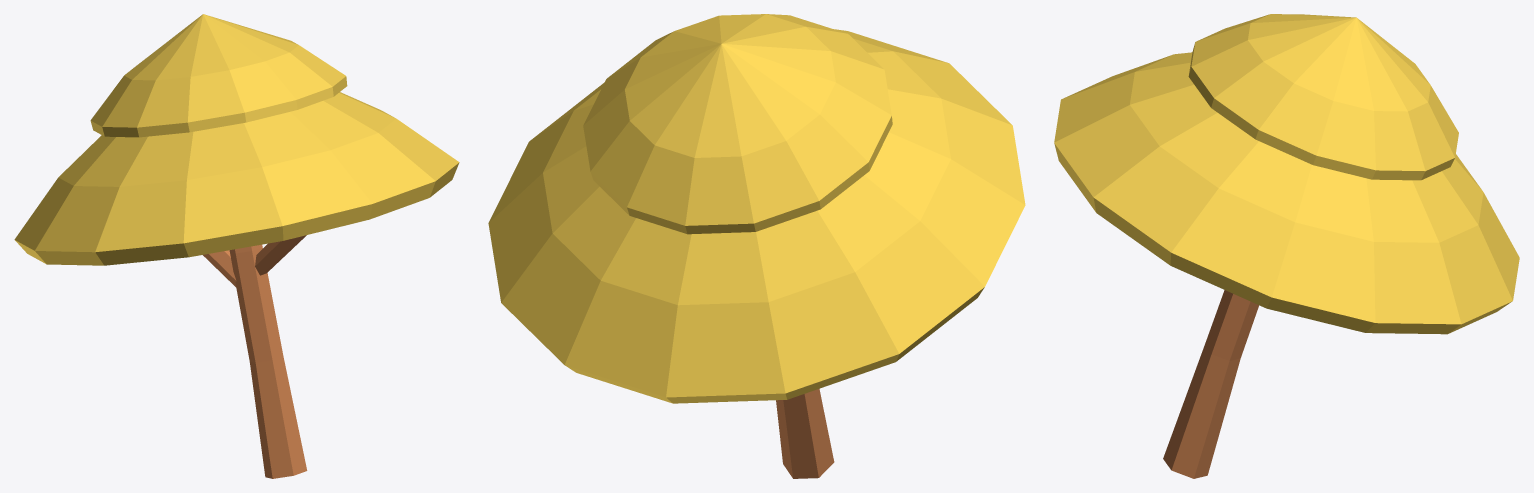
The model's file is beach_umbrella_yellow.fbx.
3 views of the same model, side by side, from view 1: azimuth 30°, elevation 25°; view 2: azimuth 150°, elevation 25°; view 3: azimuth 270°, elevation 25° (orthographic). The views are drawn at different scales.
Parts seen in each view (by area): view 1: beach_umbrella_yellow; view 2: beach_umbrella_yellow; view 3: beach_umbrella_yellow.
Boxes of the visible parts, <box> form: beach_umbrella_yellow: <box>14,14,459,478</box>; beach_umbrella_yellow: <box>488,14,1025,478</box>; beach_umbrella_yellow: <box>1054,14,1519,478</box>.
Size of the model in its own units: 234 by 235 by 218.
1 material, 1 textured.
